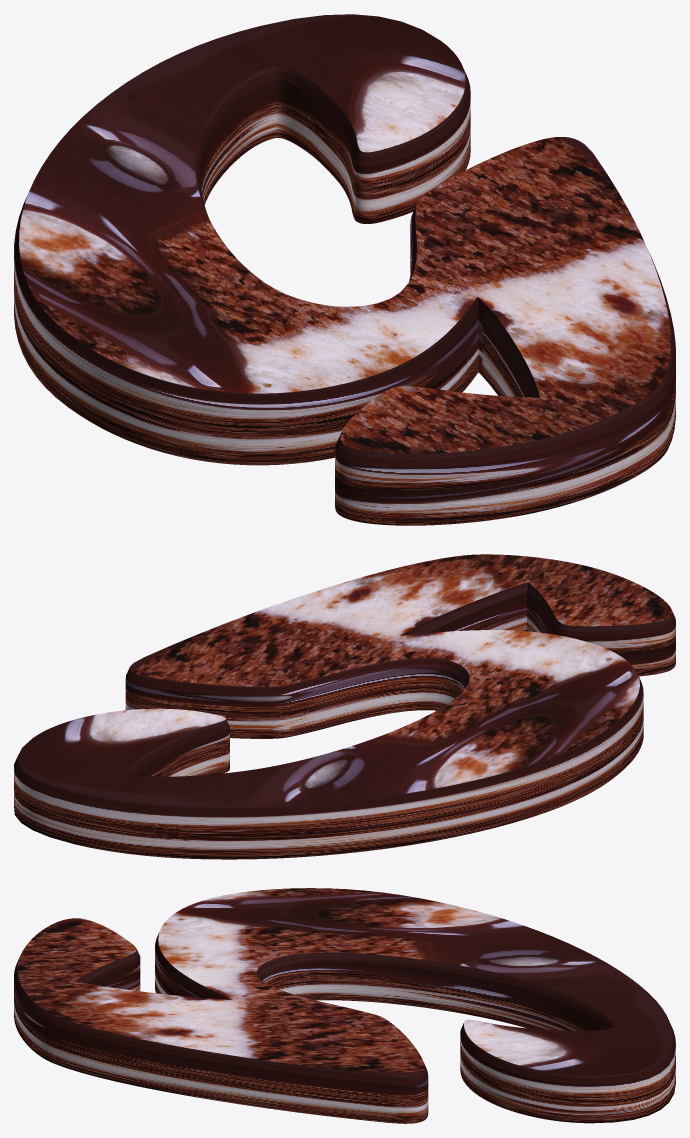
File: myG.FBX
3 views of the same model, one above another, from view 1: azimuth 30°, elevation 25°; view 2: azimuth 150°, elevation 25°; view 3: azimuth 270°, elevation 25° (orthographic). The views are drawn at different scales.
Parts seen in each view (by area): view 1: myB; view 2: myB; view 3: myB.
Boxes of the visible parts, bbox=[...] form: myB: bbox=[14, 14, 675, 525]; myB: bbox=[14, 554, 675, 859]; myB: bbox=[14, 888, 675, 1123].
Size of the model in its own units: 53.27 by 6 by 78.
Materials: 1 (1 with a texture image).
